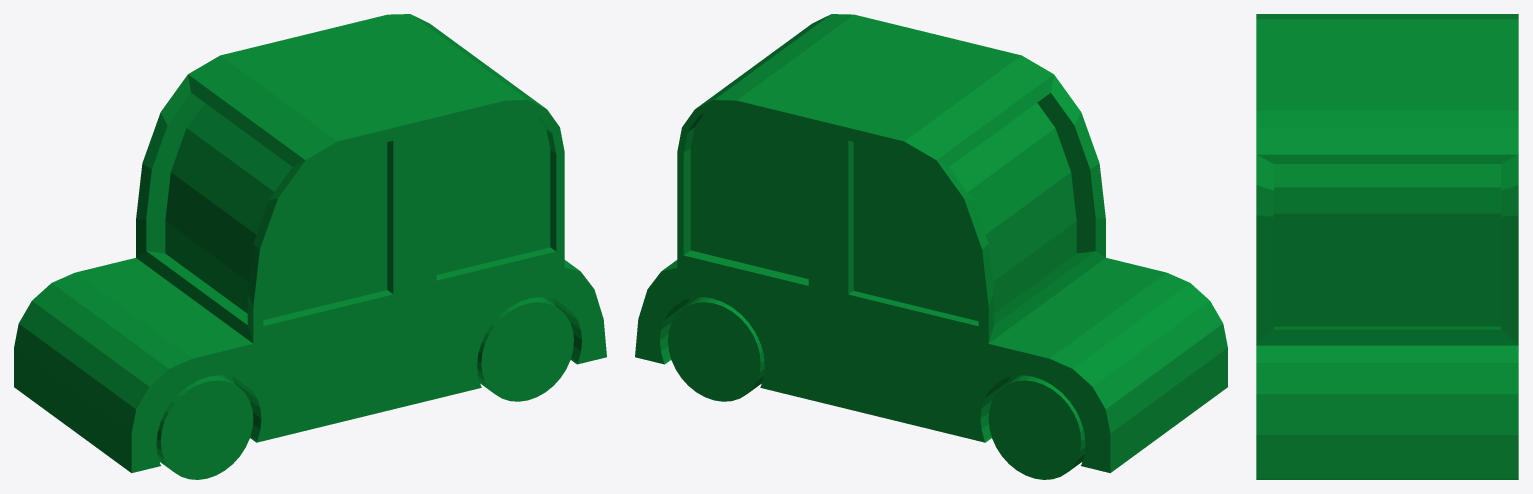
Rendered from CarGreen.fbx.
3 renders of one model, left to right at view 1: azimuth 30°, elevation 25°; view 2: azimuth 150°, elevation 25°; view 3: azimuth 270°, elevation 25°, orthographic. The views are drawn at different scales.
Parts seen in each view (by area): view 1: CarBody.001, CarWheels.001; view 2: CarBody.001, CarWheels.001; view 3: CarBody.001.
Part boxes in pixels (bbox=[...]): CarBody.001: bbox=[14, 14, 606, 473]; CarWheels.001: bbox=[156, 297, 573, 479]; CarBody.001: bbox=[635, 14, 1227, 473]; CarWheels.001: bbox=[668, 297, 1085, 479]; CarBody.001: bbox=[1256, 14, 1518, 479].
Size of the model in its own units: 467 by 288 by 200.
